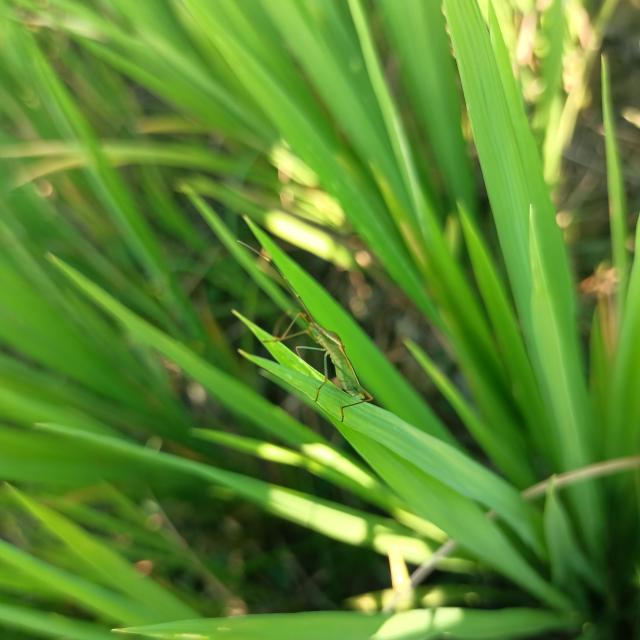walang sangit pada tanaman padi: (235, 238, 376, 424)
